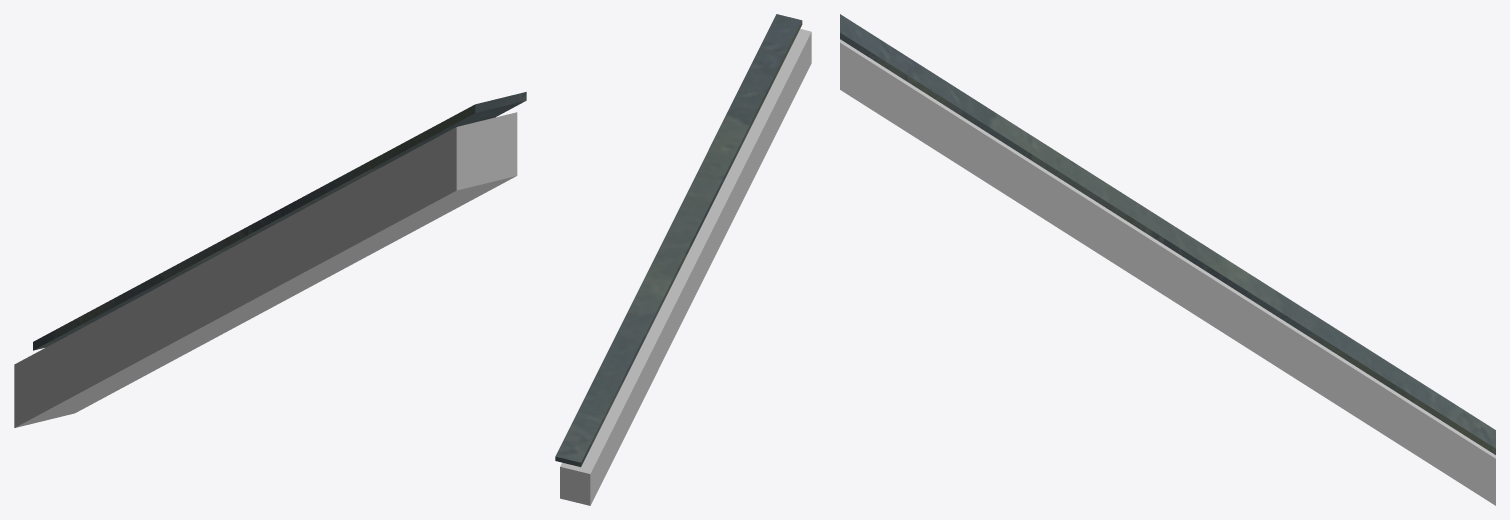
Rendered from CM_SlateRoofKit01_Verge2m_35.fbx.
3 renders of one model, left to right at view 1: azimuth 30°, elevation 25°; view 2: azimuth 150°, elevation 25°; view 3: azimuth 270°, elevation 25°, orthographic. The views are drawn at different scales.
Visible parts, largest first — view 1: CM_SlateRoofKit01_Verge2m_35_Timber, CM_SlateRoofKit01_Verge2m_35_Slate; view 2: CM_SlateRoofKit01_Verge2m_35_Slate, CM_SlateRoofKit01_Verge2m_35_Timber; view 3: CM_SlateRoofKit01_Verge2m_35_Timber, CM_SlateRoofKit01_Verge2m_35_Slate.
Boxes of the visible parts, x1,y1,x2,y2 form: CM_SlateRoofKit01_Verge2m_35_Timber: (14, 112, 517, 427); CM_SlateRoofKit01_Verge2m_35_Slate: (33, 92, 526, 350); CM_SlateRoofKit01_Verge2m_35_Slate: (555, 14, 802, 466); CM_SlateRoofKit01_Verge2m_35_Timber: (560, 29, 811, 505); CM_SlateRoofKit01_Verge2m_35_Timber: (840, 39, 1495, 505); CM_SlateRoofKit01_Verge2m_35_Slate: (840, 14, 1495, 454).
Bounding box in the file's own units: 0.15 × 1.31 × 1.64.
